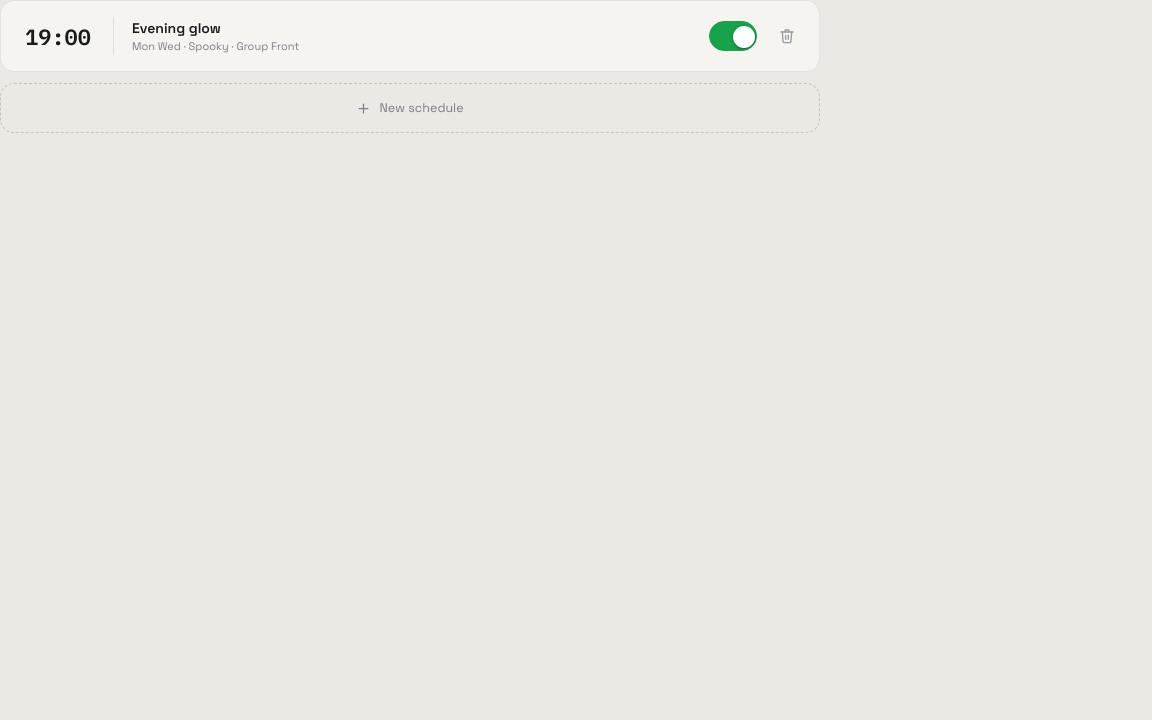
Test: ScheduleManager v2 › editing an existing schedule › Edit pre-fills the form and PATCHes (not POST) on Save, skipping the preview dance entirely
Expected: the text "Evening glow" is shown, [132,19,221,37]
Click the button with aria-label "Edit Evening glow" at (176, 28), box [132,19,691,53]
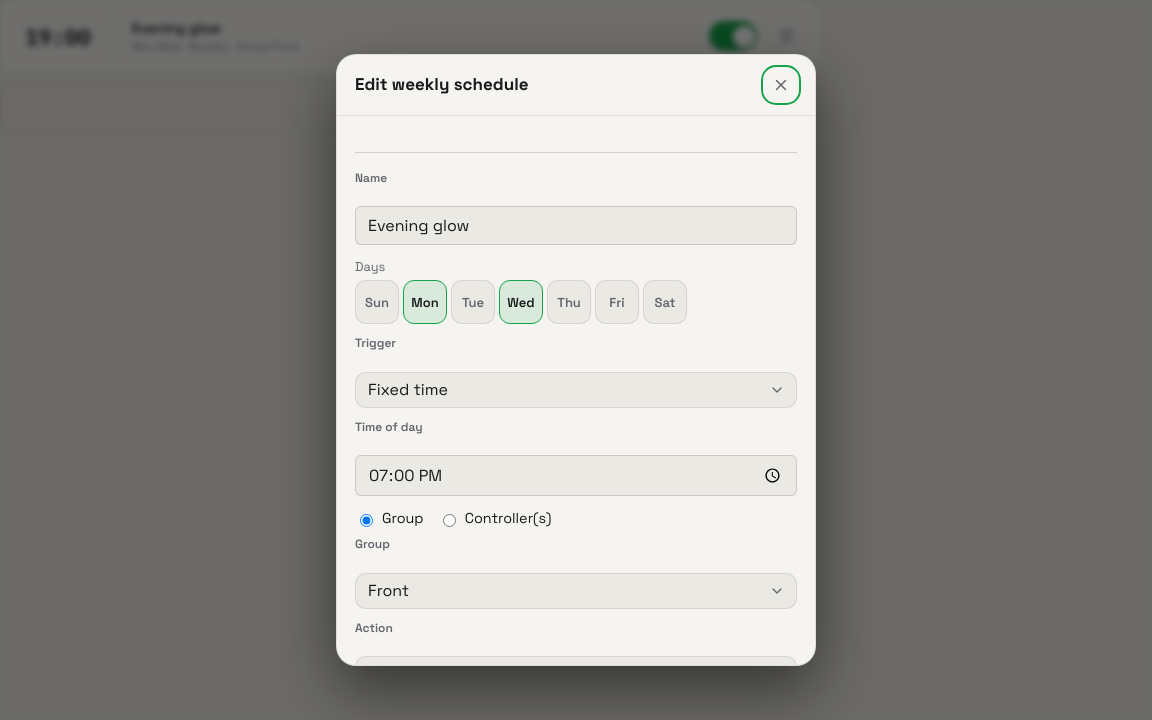
Expected: the field labelled "Name" holds "Evening glow"
Replace the text in the field labelled "Name" with "Evening glow (later)" at (576, 226), box [355,206,797,245]
(page scrolled)
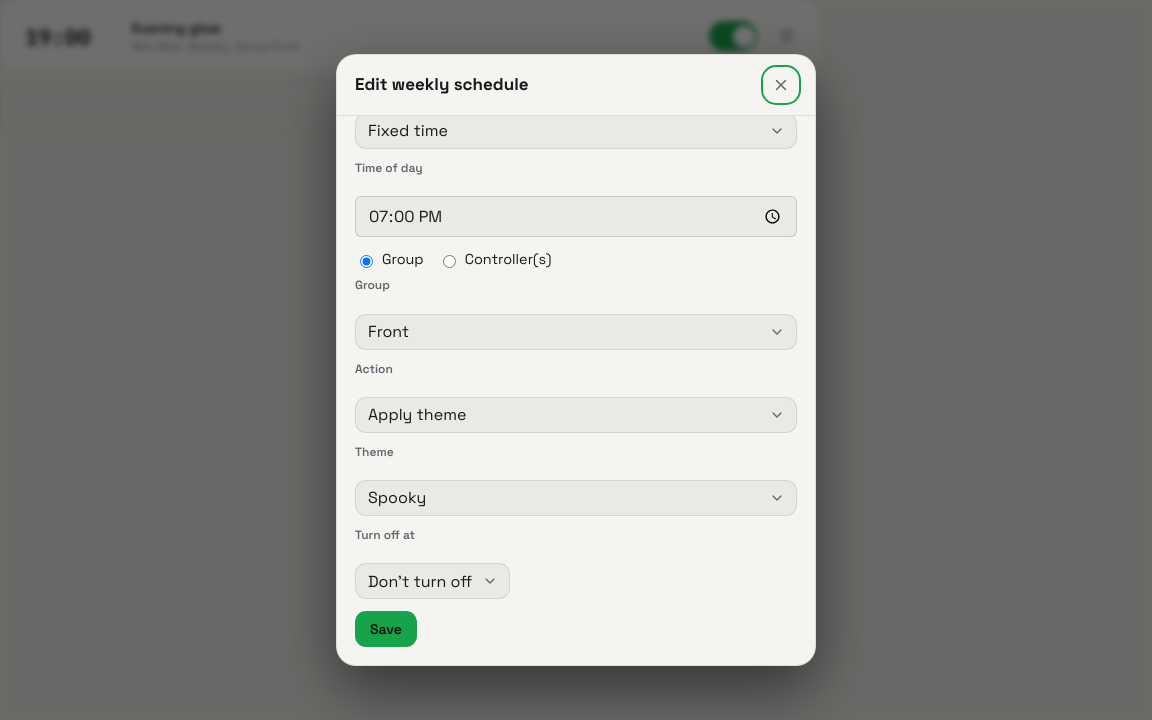
Click the button "Save" at (386, 629), box [355,611,417,647]
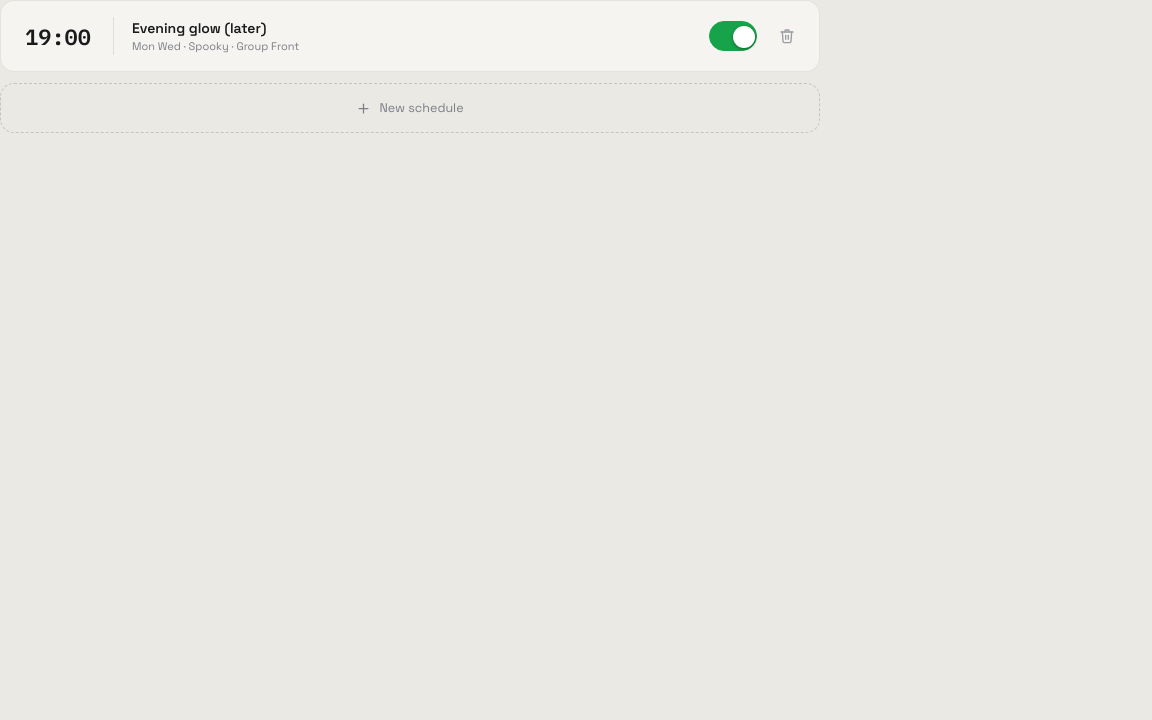
Expected: the label labelled "Name" is not shown
Expected: the text "Evening glow" reads "Evening glow (later)", [132,19,266,37]
